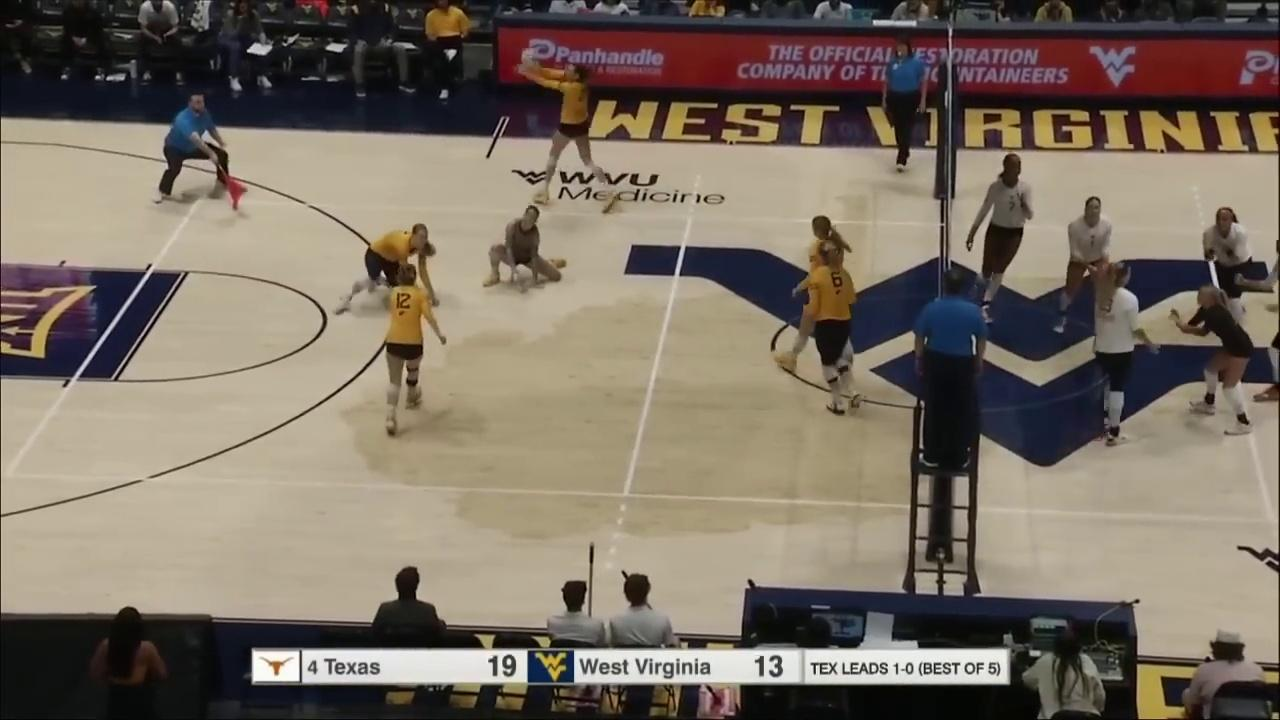player: (523, 53, 621, 213), (773, 215, 855, 374), (1178, 284, 1257, 435), (1095, 261, 1156, 445), (970, 153, 1032, 327), (1061, 195, 1135, 337), (382, 263, 442, 437), (334, 225, 442, 315), (811, 242, 865, 419), (483, 204, 570, 294), (1199, 205, 1256, 327), (1249, 229, 1280, 405)
refree: (914, 270, 989, 463), (154, 95, 239, 204), (882, 38, 929, 173)
